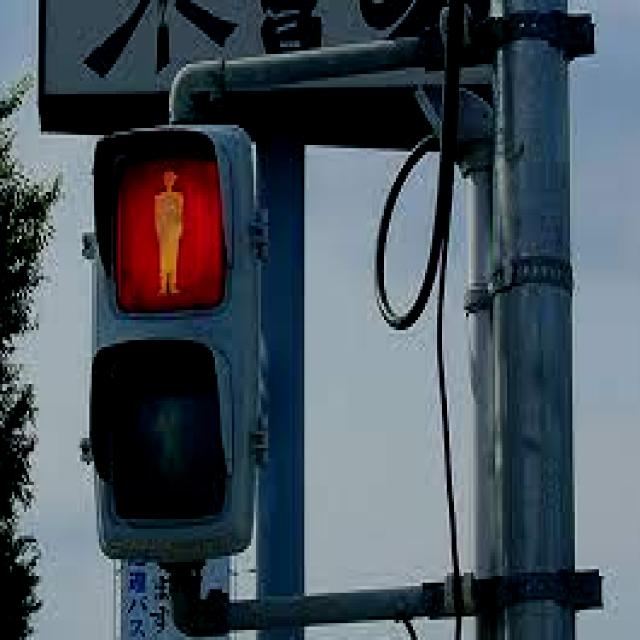trafficlight: (78, 121, 264, 559)
